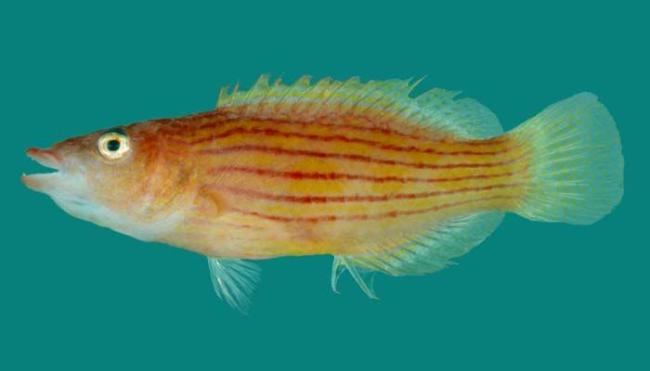fish: (21, 72, 626, 316)
